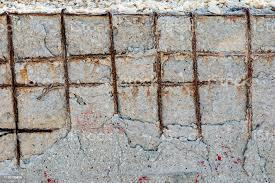Exposed reinforcement: (1, 78, 252, 90), (5, 14, 21, 167), (1, 11, 275, 17), (151, 11, 164, 134), (1, 52, 129, 64), (189, 11, 201, 137), (106, 11, 119, 116), (59, 7, 69, 115), (244, 7, 252, 137), (162, 49, 275, 57), (1, 127, 61, 136)
Spalling: (1, 1, 275, 169)
